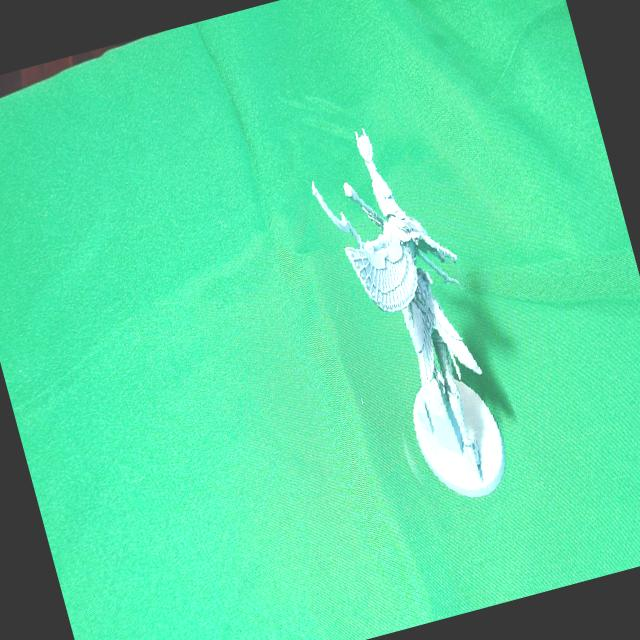isis: (287, 86, 538, 544)
